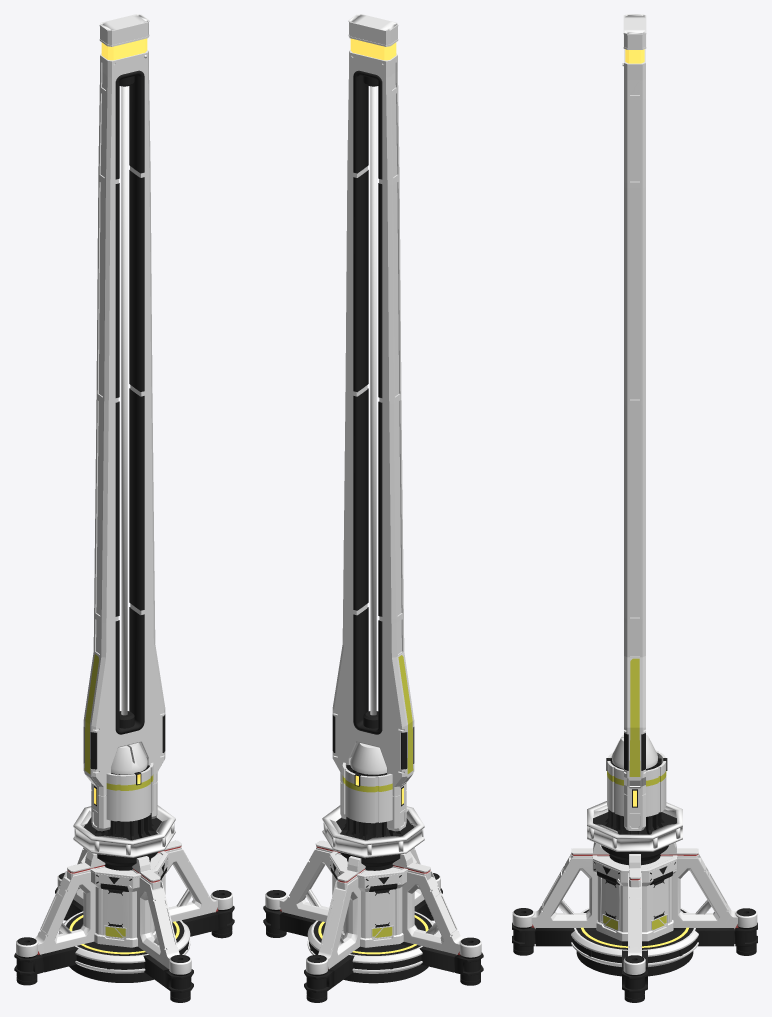
The model's file is Relay.glb.
3 renders of one model, left to right at view 1: azimuth 30°, elevation 25°; view 2: azimuth 150°, elevation 25°; view 3: azimuth 270°, elevation 25°, orthographic.
Parts seen in each view (by area): view 1: Cube.004; view 2: Cube.004; view 3: Cube.004.
Boxes of the visible parts, x1,y1,x2,y2 form: Cube.004: (14, 14, 234, 1002); Cube.004: (263, 14, 483, 1002); Cube.004: (512, 14, 757, 1002).
Bounding box in the file's own units: 6.16 × 25.64 × 6.16.
